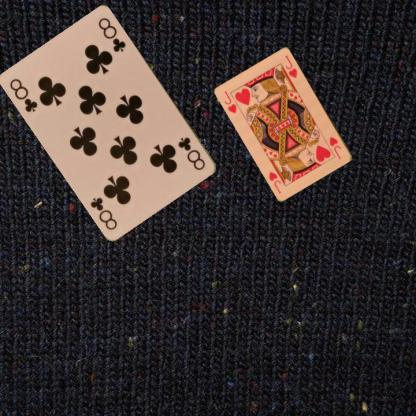8c: (7, 76, 39, 114), (176, 134, 207, 172)
Jh: (327, 134, 343, 161), (222, 88, 238, 115)
